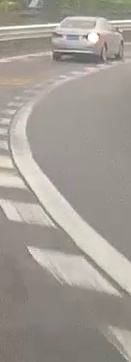L_light: (51, 32, 63, 38)
R_light: (83, 33, 99, 40)
T_light: (75, 19, 83, 21)
day-right: (51, 16, 102, 61)
